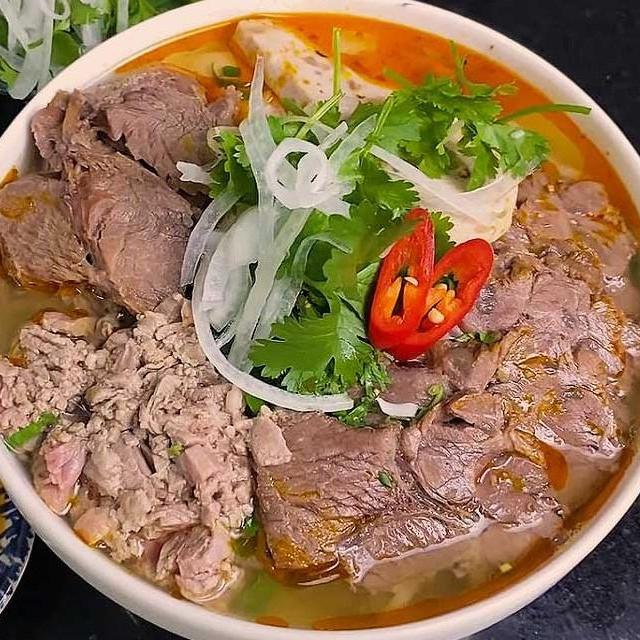thit bo: (429, 207, 640, 481), (46, 82, 223, 332), (246, 396, 455, 594), (329, 442, 572, 606), (20, 59, 254, 212), (484, 152, 640, 332), (0, 165, 121, 303), (314, 354, 474, 442)
